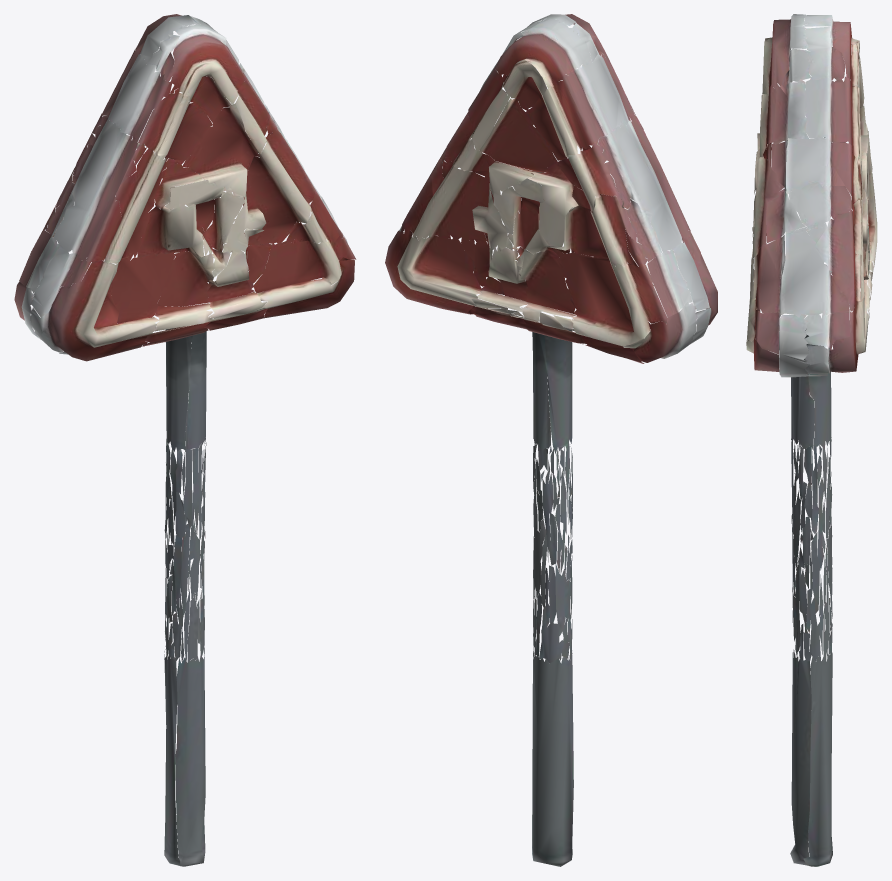
File: prop09.glb
The picture shows the model from 3 angles, left to right: view 1: azimuth 30°, elevation 25°; view 2: azimuth 150°, elevation 25°; view 3: azimuth 270°, elevation 25°; orthographic projection.
Parts seen in each view (by area): view 1: tripo_node_56d6f9b2-7e23-47ea-b14c-5277cd30fa09; view 2: tripo_node_56d6f9b2-7e23-47ea-b14c-5277cd30fa09; view 3: tripo_node_56d6f9b2-7e23-47ea-b14c-5277cd30fa09.
Part boxes in pixels (x1=…): tripo_node_56d6f9b2-7e23-47ea-b14c-5277cd30fa09: x1=14, y1=14, x2=356, y2=866; tripo_node_56d6f9b2-7e23-47ea-b14c-5277cd30fa09: x1=385, y1=14, x2=717, y2=866; tripo_node_56d6f9b2-7e23-47ea-b14c-5277cd30fa09: x1=746, y1=14, x2=877, y2=866.
Size of the model in its own units: 0.3774 by 1 by 0.1411.
Materials: 1 (1 with a texture image).
